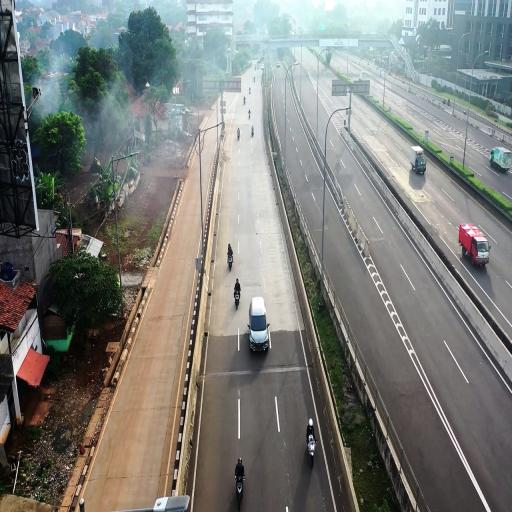vehicle: (458, 223, 490, 268), (248, 296, 270, 353), (489, 147, 512, 174), (411, 147, 426, 175)
